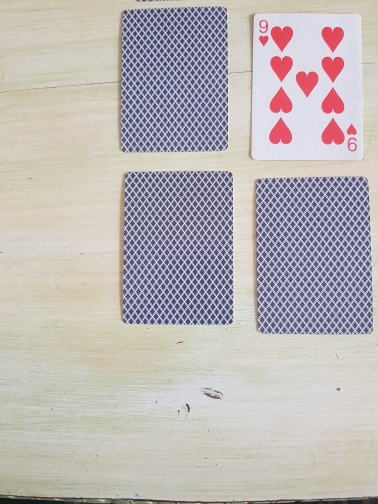nine: (248, 13, 365, 162)
